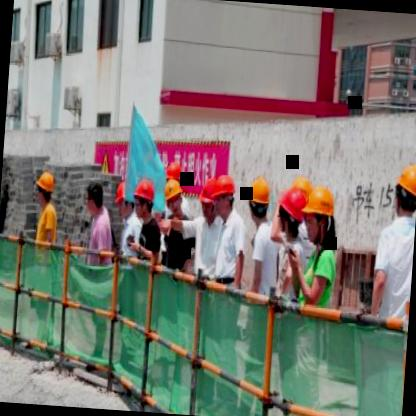head: (82, 178, 112, 221)
helmet: (303, 184, 337, 245), (278, 181, 309, 238), (392, 157, 416, 219), (244, 172, 272, 222), (209, 172, 236, 220), (112, 178, 138, 220), (198, 174, 220, 221), (136, 176, 158, 221), (32, 168, 56, 206), (163, 178, 185, 218), (164, 159, 184, 197)
